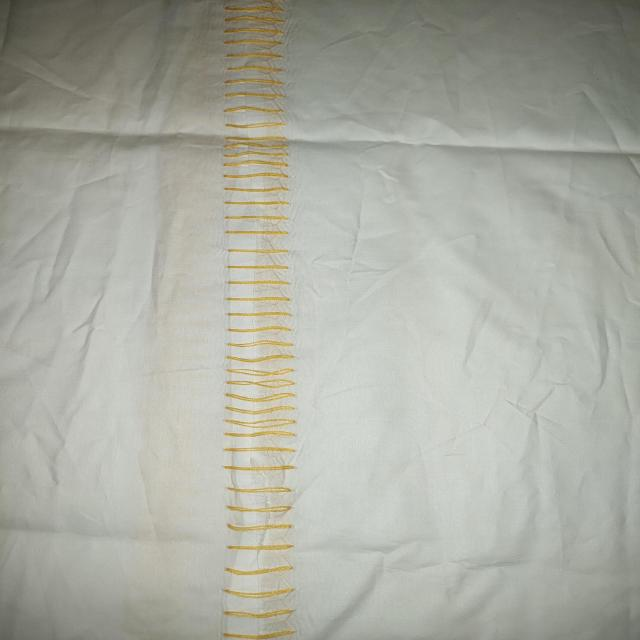gray stitch: (210, 2, 303, 640)
